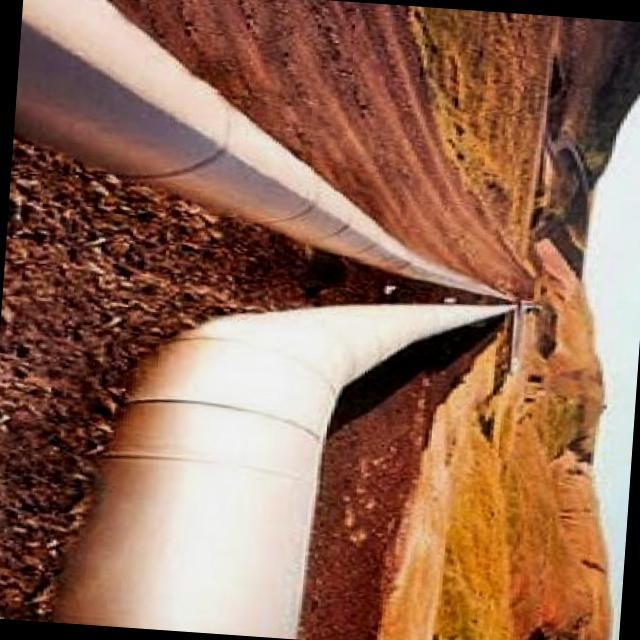gas: (61, 304, 510, 639), (15, 0, 511, 301)
